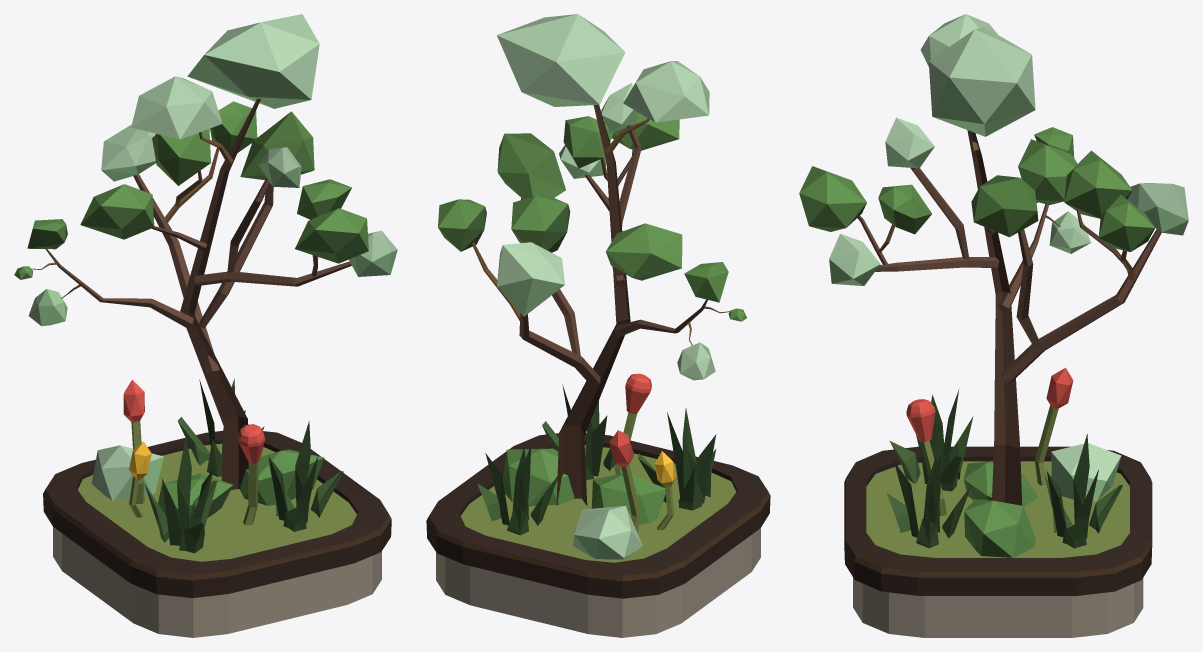
File: DeadEnd_C.glb
The picture shows the model from 3 angles, left to right: view 1: azimuth 30°, elevation 25°; view 2: azimuth 150°, elevation 25°; view 3: azimuth 270°, elevation 25°; orthographic projection. The views are drawn at different scales.
Visible parts, largest first — view 1: Tree_01.018, Cube.304, Grass_03.689, Grass_03.687, Tree_03.1582, Flower03.1856, Tree_03.1584, Flower03.1857, Grass_03.688, Tree_03.1583; view 2: Tree_01.018, Cube.304, Tree_03.1582, Grass_03.689, Grass_03.688, Tree_03.1584, Tree_03.1583, Flower03.1856, Grass_03.687, Flower03.1857; view 3: Tree_01.018, Cube.304, Tree_03.1584, Grass_03.688, Grass_03.687, Grass_03.689, Tree_03.1582, Flower03.1856, Flower03.1857, Tree_03.1583.
Boxes of the visible parts, x1,y1,x2,y2 form: Tree_01.018: [14, 14, 397, 489]; Cube.304: [43, 431, 391, 637]; Grass_03.689: [144, 436, 217, 553]; Grass_03.687: [268, 421, 343, 531]; Tree_03.1582: [91, 445, 163, 500]; Flower03.1856: [123, 379, 151, 517]; Tree_03.1584: [240, 449, 324, 505]; Flower03.1857: [238, 424, 265, 525]; Grass_03.688: [178, 378, 264, 476]; Tree_03.1583: [158, 473, 233, 524]; Tree_01.018: [438, 14, 746, 505]; Cube.304: [426, 432, 770, 637]; Tree_03.1582: [573, 505, 642, 559]; Grass_03.689: [638, 408, 716, 510]; Grass_03.688: [477, 444, 558, 535]; Tree_03.1584: [503, 448, 574, 506]; Tree_03.1583: [591, 473, 665, 524]; Flower03.1856: [609, 430, 676, 533]; Grass_03.687: [542, 384, 615, 479]; Flower03.1857: [614, 373, 651, 474]; Tree_01.018: [799, 14, 1188, 505]; Cube.304: [844, 446, 1152, 637]; Tree_03.1584: [964, 499, 1035, 557]; Grass_03.688: [1044, 434, 1122, 548]; Grass_03.687: [886, 453, 971, 548]; Grass_03.689: [889, 390, 973, 491]; Tree_03.1582: [1051, 443, 1121, 501]; Flower03.1856: [1035, 367, 1073, 485]; Flower03.1857: [906, 399, 946, 515]; Tree_03.1583: [963, 461, 1038, 506].
Size of what is drawn, in the model's own units: 3.41 by 5.92 by 3.7.
1 material, 1 textured.
